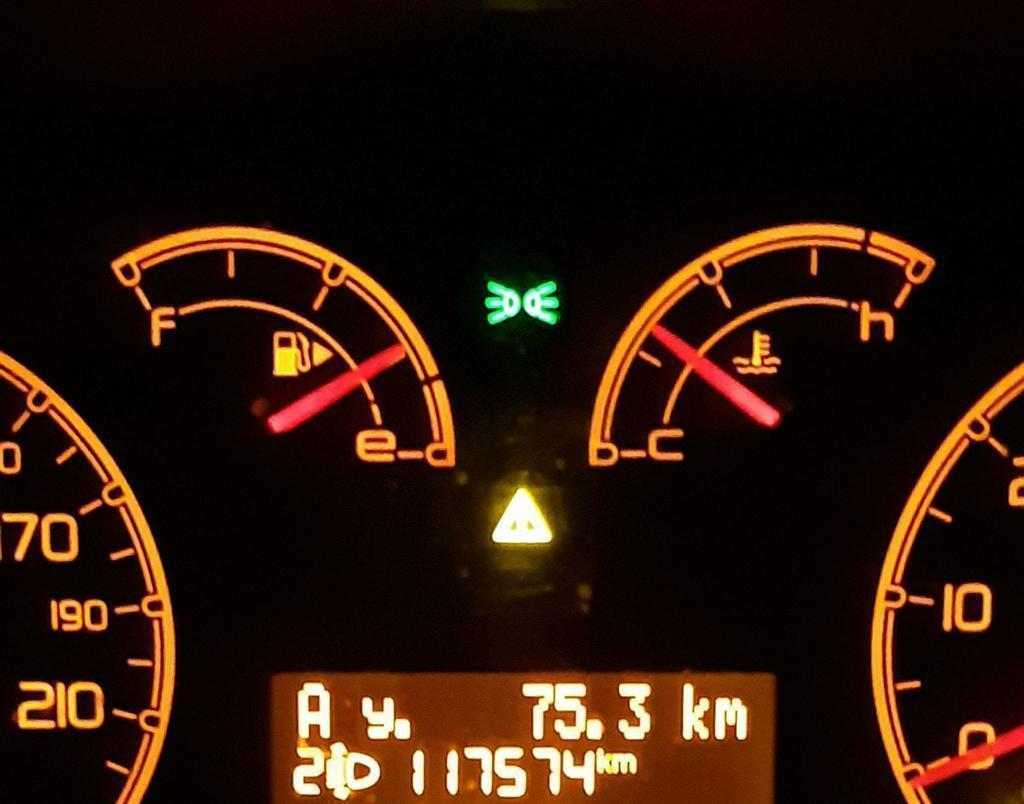,: (393, 717, 413, 742), (585, 717, 604, 742)
1: (404, 745, 432, 798), (436, 745, 462, 797)
2: (288, 743, 325, 796)
3: (611, 679, 654, 743)
4: (562, 746, 594, 797)
5: (553, 680, 585, 741), (493, 742, 527, 799)
7: (520, 679, 552, 742), (531, 742, 562, 799), (459, 743, 491, 798)
X: (292, 679, 332, 741), (677, 676, 710, 742), (712, 694, 750, 743), (357, 692, 394, 742), (611, 750, 639, 775), (595, 746, 611, 775)
odometer: (257, 658, 785, 802)
